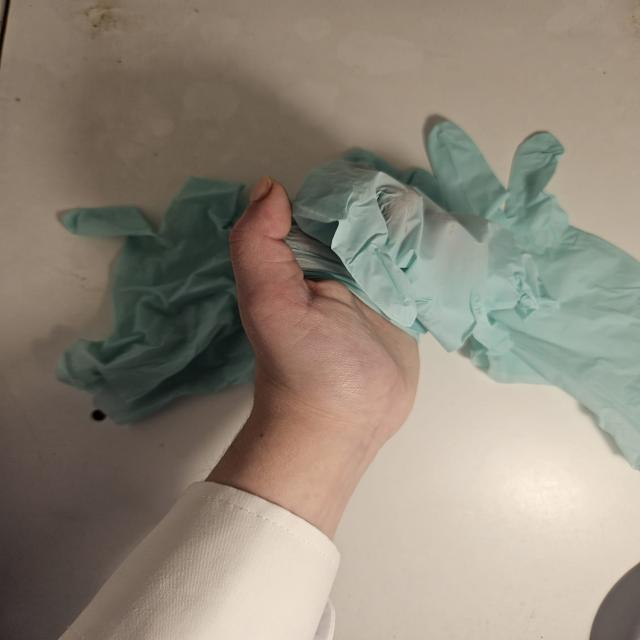glove_partial: (228, 155, 563, 411)
